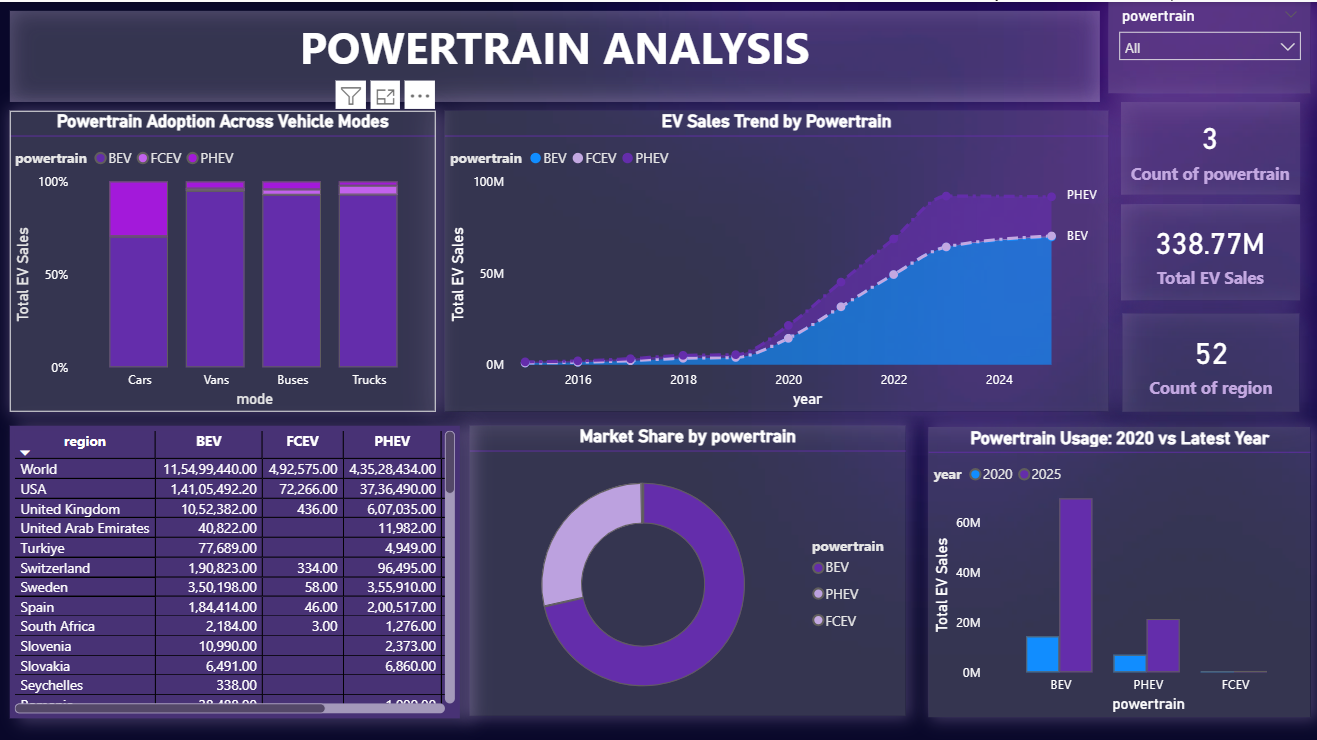

The page's visual inventory and layout, read from the dashboard file:
{"tool":"powerbi","page":{"name":"Powertrain","canvas":[1280,720],"ordinal":1},"visuals":[{"type":"stackedAreaChart","title":"EV Sales Trend by Powertrain","fields":{"Category":["IEA Global EV Data 2024.year"],"Y":["IEA Global EV Data 2024.Total EV Sales"],"Series":["IEA Global EV Data 2024.powertrain"]},"box":[433.1,105,640.6,290.8],"z":0},{"type":"donutChart","title":"Market Share by powertrain","fields":{"Category":["IEA Global EV Data 2024.powertrain"],"Y":["IEA Global EV Data 2024.Total EV Sales"]},"box":[457.2,409,421,279.9],"z":1000},{"type":"clusteredColumnChart","title":"Powertrain Usage: 2020 vs Latest Year","fields":{"Category":["IEA Global EV Data 2024.powertrain"],"Y":["IEA Global EV Data 2024.Total EV Sales"],"Series":["IEA Global EV Data 2024.year"]},"box":[900,410.2,369.2,279.9],"z":2000},{"type":"textbox","box":[13.3,8.4,1052,88.1],"z":3000},{"type":"hundredPercentStackedColumnChart","title":"Powertrain Adoption Across Vehicle Modes","fields":{"Category":["IEA Global EV Data 2024.mode"],"Y":["IEA Global EV Data 2024.Total EV Sales"],"Series":["IEA Global EV Data 2024.powertrain"]},"box":[13.3,105,411.4,290.8],"z":4000},{"type":"pivotTable","title":"Powertrain Dominance by Region","fields":{"Rows":["IEA Global EV Data 2024.region"],"Columns":["IEA Global EV Data 2024.powertrain"],"Values":["IEA Global EV Data 2024.Total EV Sales"]},"box":[13.3,409,434.3,282.3],"z":5000},{"type":"card","fields":{"Values":["Count(IEA Global EV Data 2024.powertrain)"]},"box":[1085.8,96.5,172.5,89.3],"z":6000},{"type":"card","fields":{"Values":["Count(IEA Global EV Data 2024.region)"]},"box":[1087,300.4,171.3,95.3],"z":7000},{"type":"card","fields":{"Values":["IEA Global EV Data 2024.Total EV Sales"]},"box":[1085.8,195.4,172.5,92.9],"z":8000},{"type":"slicer","fields":{"Values":["IEA Global EV Data 2024.powertrain"]},"box":[1073.7,0,195.4,88.1],"z":9000}]}

Visuals, with their boxes in screenshot pixels (x1, y1, x2, y2), scaled from the page's 1280x720 canvas onto the 1317x740 screenshot:
"EV Sales Trend by Powertrain" stackedAreaChart: 446, 108, 1105, 407
"Market Share by powertrain" donutChart: 470, 420, 904, 708
"Powertrain Usage: 2020 vs Latest Year" clusteredColumnChart: 926, 422, 1306, 709
textbox: 14, 9, 1096, 99
"Powertrain Adoption Across Vehicle Modes" hundredPercentStackedColumnChart: 14, 108, 437, 407
"Powertrain Dominance by Region" pivotTable: 14, 420, 461, 711
card - Count(IEA Global EV Data 2024.powertrain): 1117, 99, 1295, 191
card - Count(IEA Global EV Data 2024.region): 1118, 309, 1295, 407
card - IEA Global EV Data 2024.Total EV Sales: 1117, 201, 1295, 296
slicer - IEA Global EV Data 2024.powertrain: 1105, 0, 1306, 91
